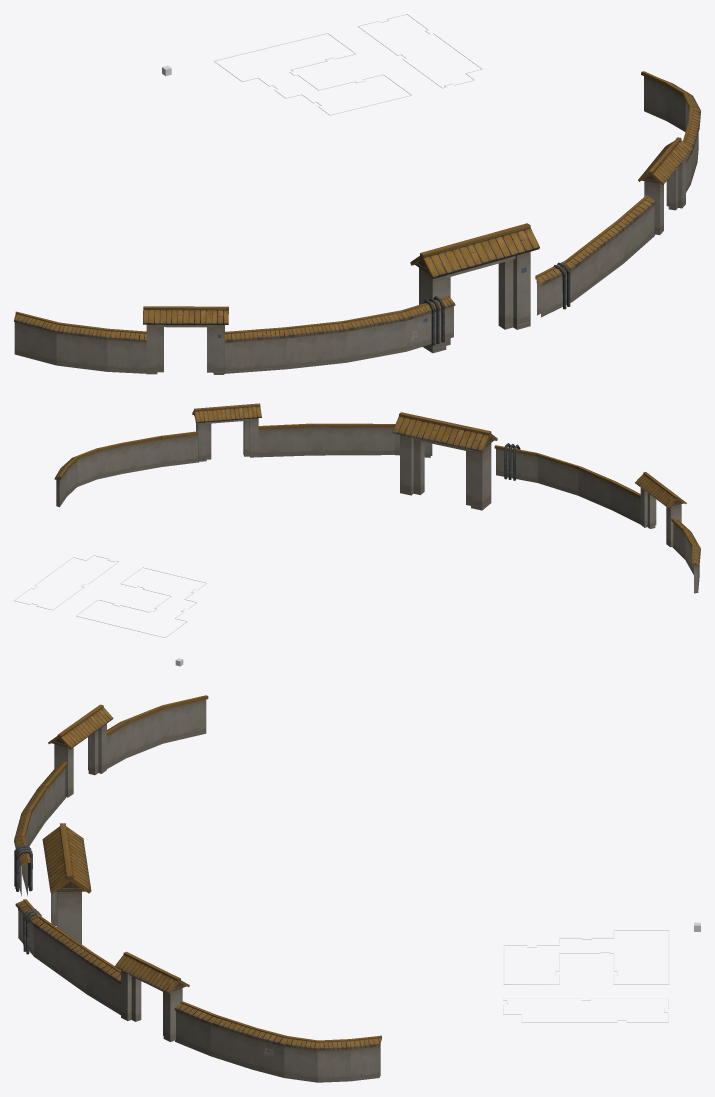
The model's file is maingate.glb.
3 views of the same model, one above another, from view 1: azimuth 30°, elevation 25°; view 2: azimuth 150°, elevation 25°; view 3: azimuth 270°, elevation 25° (orthographic). The views are drawn at different scales.
Visible parts, largest first — view 1: Mesh_0017.rip_mat0.016_0_mat0.016_0_19, Mesh_0033.rip_mat0.028_0_mat0.028_0_64, Mesh_0033.rip.001_mat0.046_0_mat0.046_0_67; view 2: Mesh_0017.rip_mat0.016_0_mat0.016_0_19, Mesh_0033.rip_mat0.028_0_mat0.028_0_64, Mesh_0033.rip.001_mat0.046_0_mat0.046_0_67; view 3: Mesh_0017.rip_mat0.016_0_mat0.016_0_19, Mesh_0033.rip_mat0.028_0_mat0.028_0_64, Mesh_0033.rip.001_mat0.046_0_mat0.046_0_67.
Part boxes in pixels (x1,y1,x2,y2): Mesh_0017.rip_mat0.016_0_mat0.016_0_19: (14,71,700,374); Mesh_0033.rip_mat0.028_0_mat0.028_0_64: (410,223,539,353); Mesh_0033.rip.001_mat0.046_0_mat0.046_0_67: (214,14,482,115); Mesh_0017.rip_mat0.016_0_mat0.016_0_19: (54,403,700,593); Mesh_0033.rip_mat0.028_0_mat0.028_0_64: (392,412,497,510); Mesh_0033.rip.001_mat0.046_0_mat0.046_0_67: (14,555,206,637); Mesh_0017.rip_mat0.016_0_mat0.016_0_19: (14,695,381,1082); Mesh_0033.rip_mat0.028_0_mat0.028_0_64: (42,823,91,944); Mesh_0033.rip.001_mat0.046_0_mat0.046_0_67: (503,930,669,1022).
Size of the model in its own units: 238 by 29.53 by 196.
4 materials, 2 textured.
